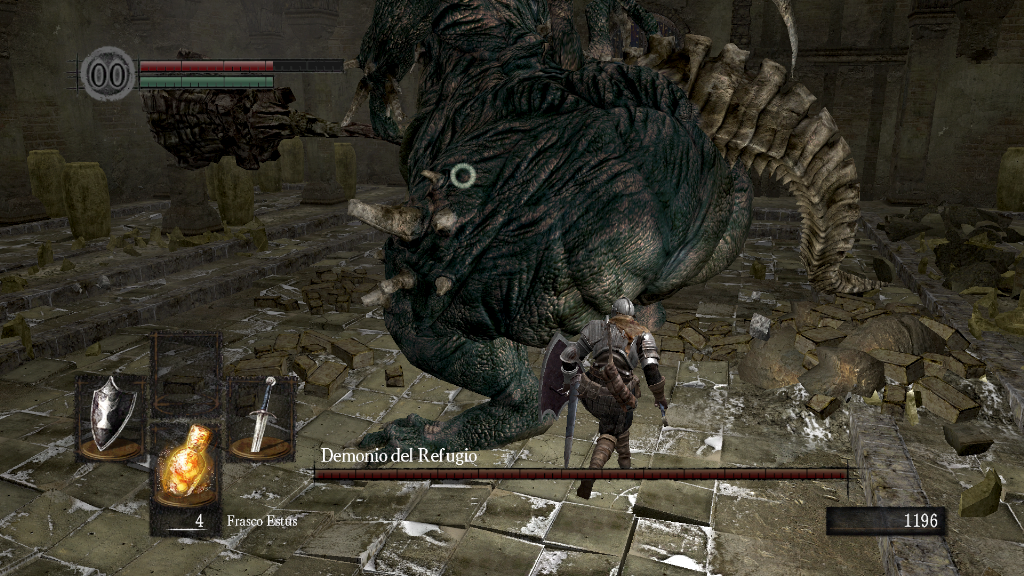asylumDemon: (346, 3, 895, 465)
bossHP: (314, 469, 847, 479)
health: (138, 58, 343, 71)
humanity: (80, 45, 136, 102)
player: (538, 293, 670, 501)
souls: (825, 506, 945, 536)
stamina: (138, 74, 274, 88)
